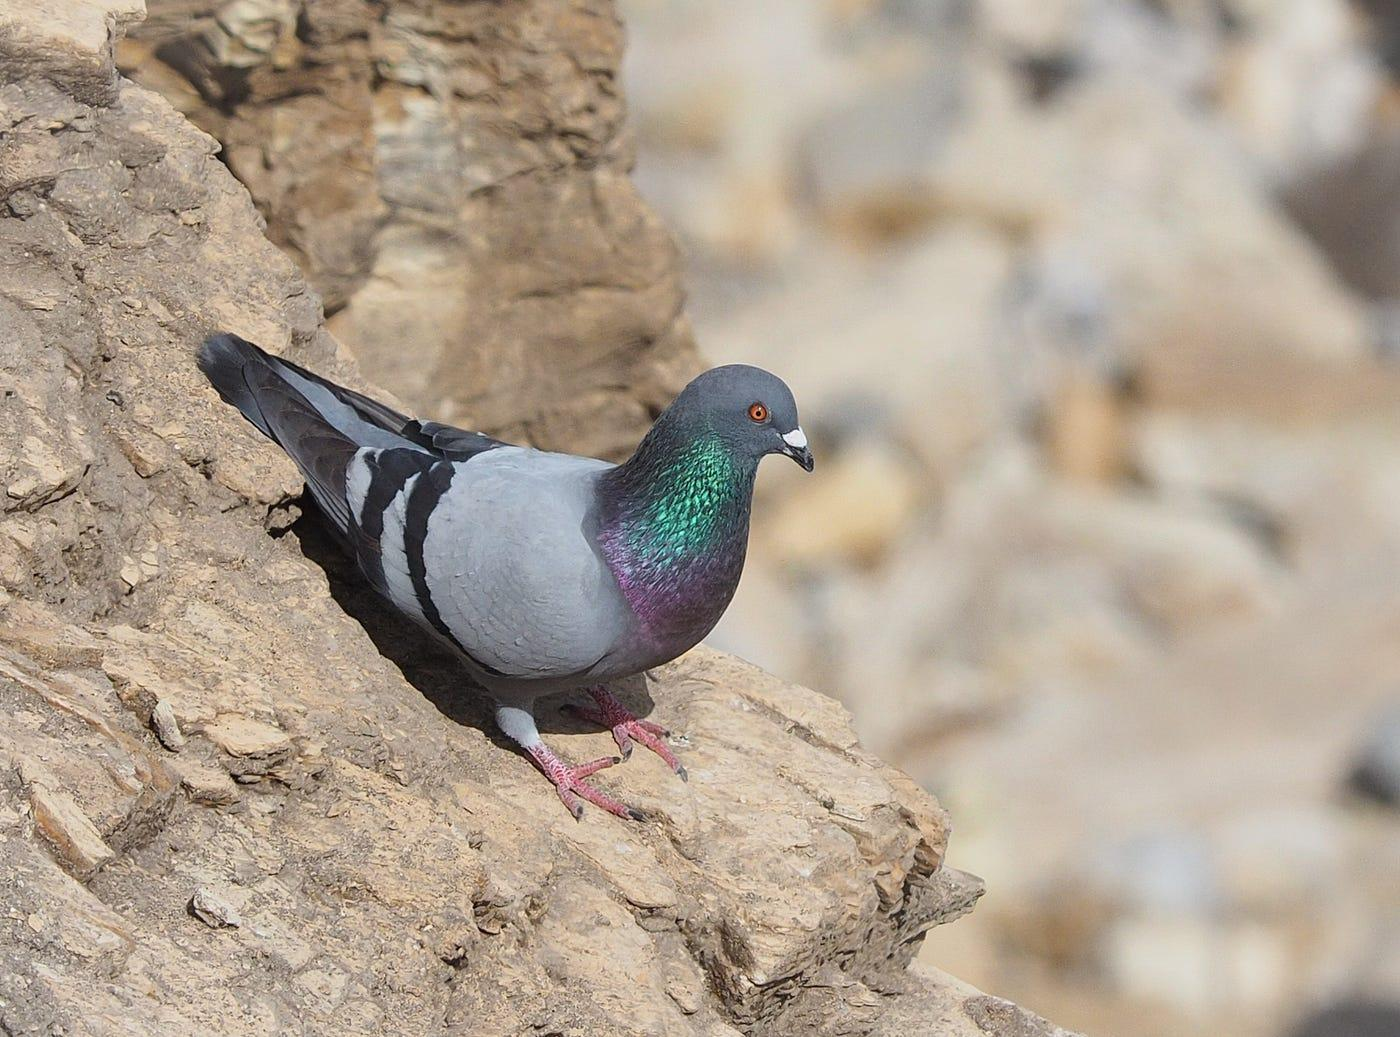Flying Rat: (195, 362, 835, 798)
